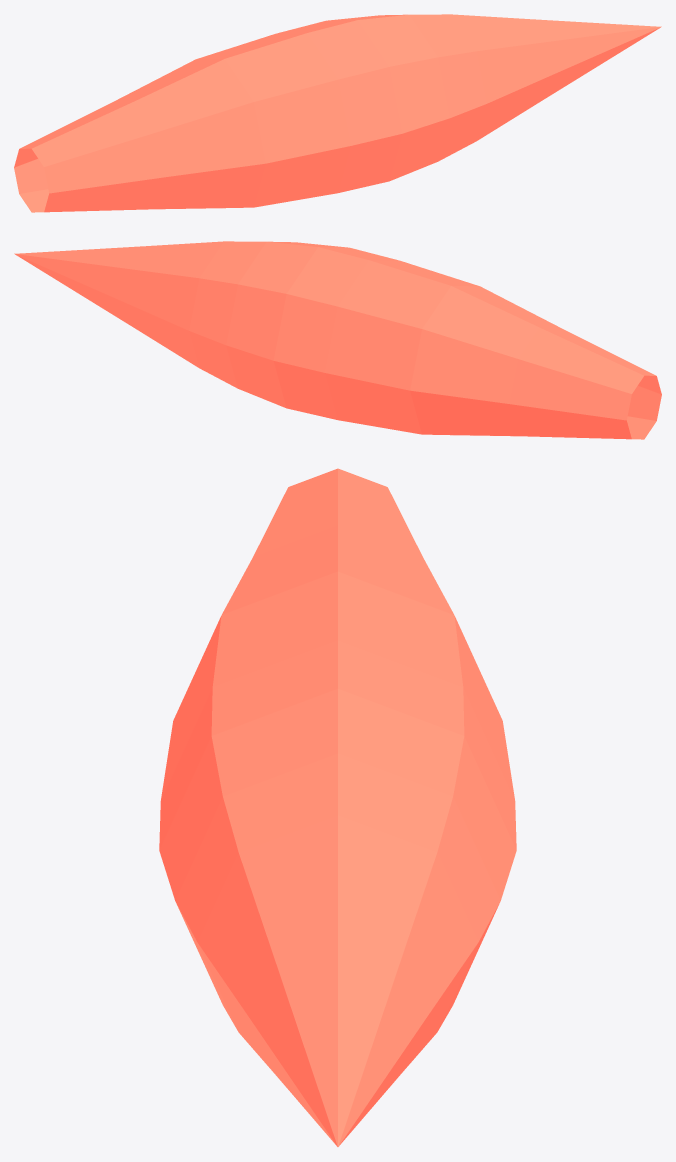
File: Fire.fbx
3 views of the same model, one above another, from view 1: azimuth 30°, elevation 25°; view 2: azimuth 150°, elevation 25°; view 3: azimuth 270°, elevation 25° (orthographic). The views are drawn at different scales.
Parts seen in each view (by area): view 1: Sphere.012; view 2: Sphere.012; view 3: Sphere.012.
Boxes of the visible parts, box(x1,y1,x2,y2) form: Sphere.012: box(14, 14, 661, 212); Sphere.012: box(14, 241, 661, 439); Sphere.012: box(159, 468, 516, 1146).
Bounding box in the file's own units: 666 × 164 × 164.
